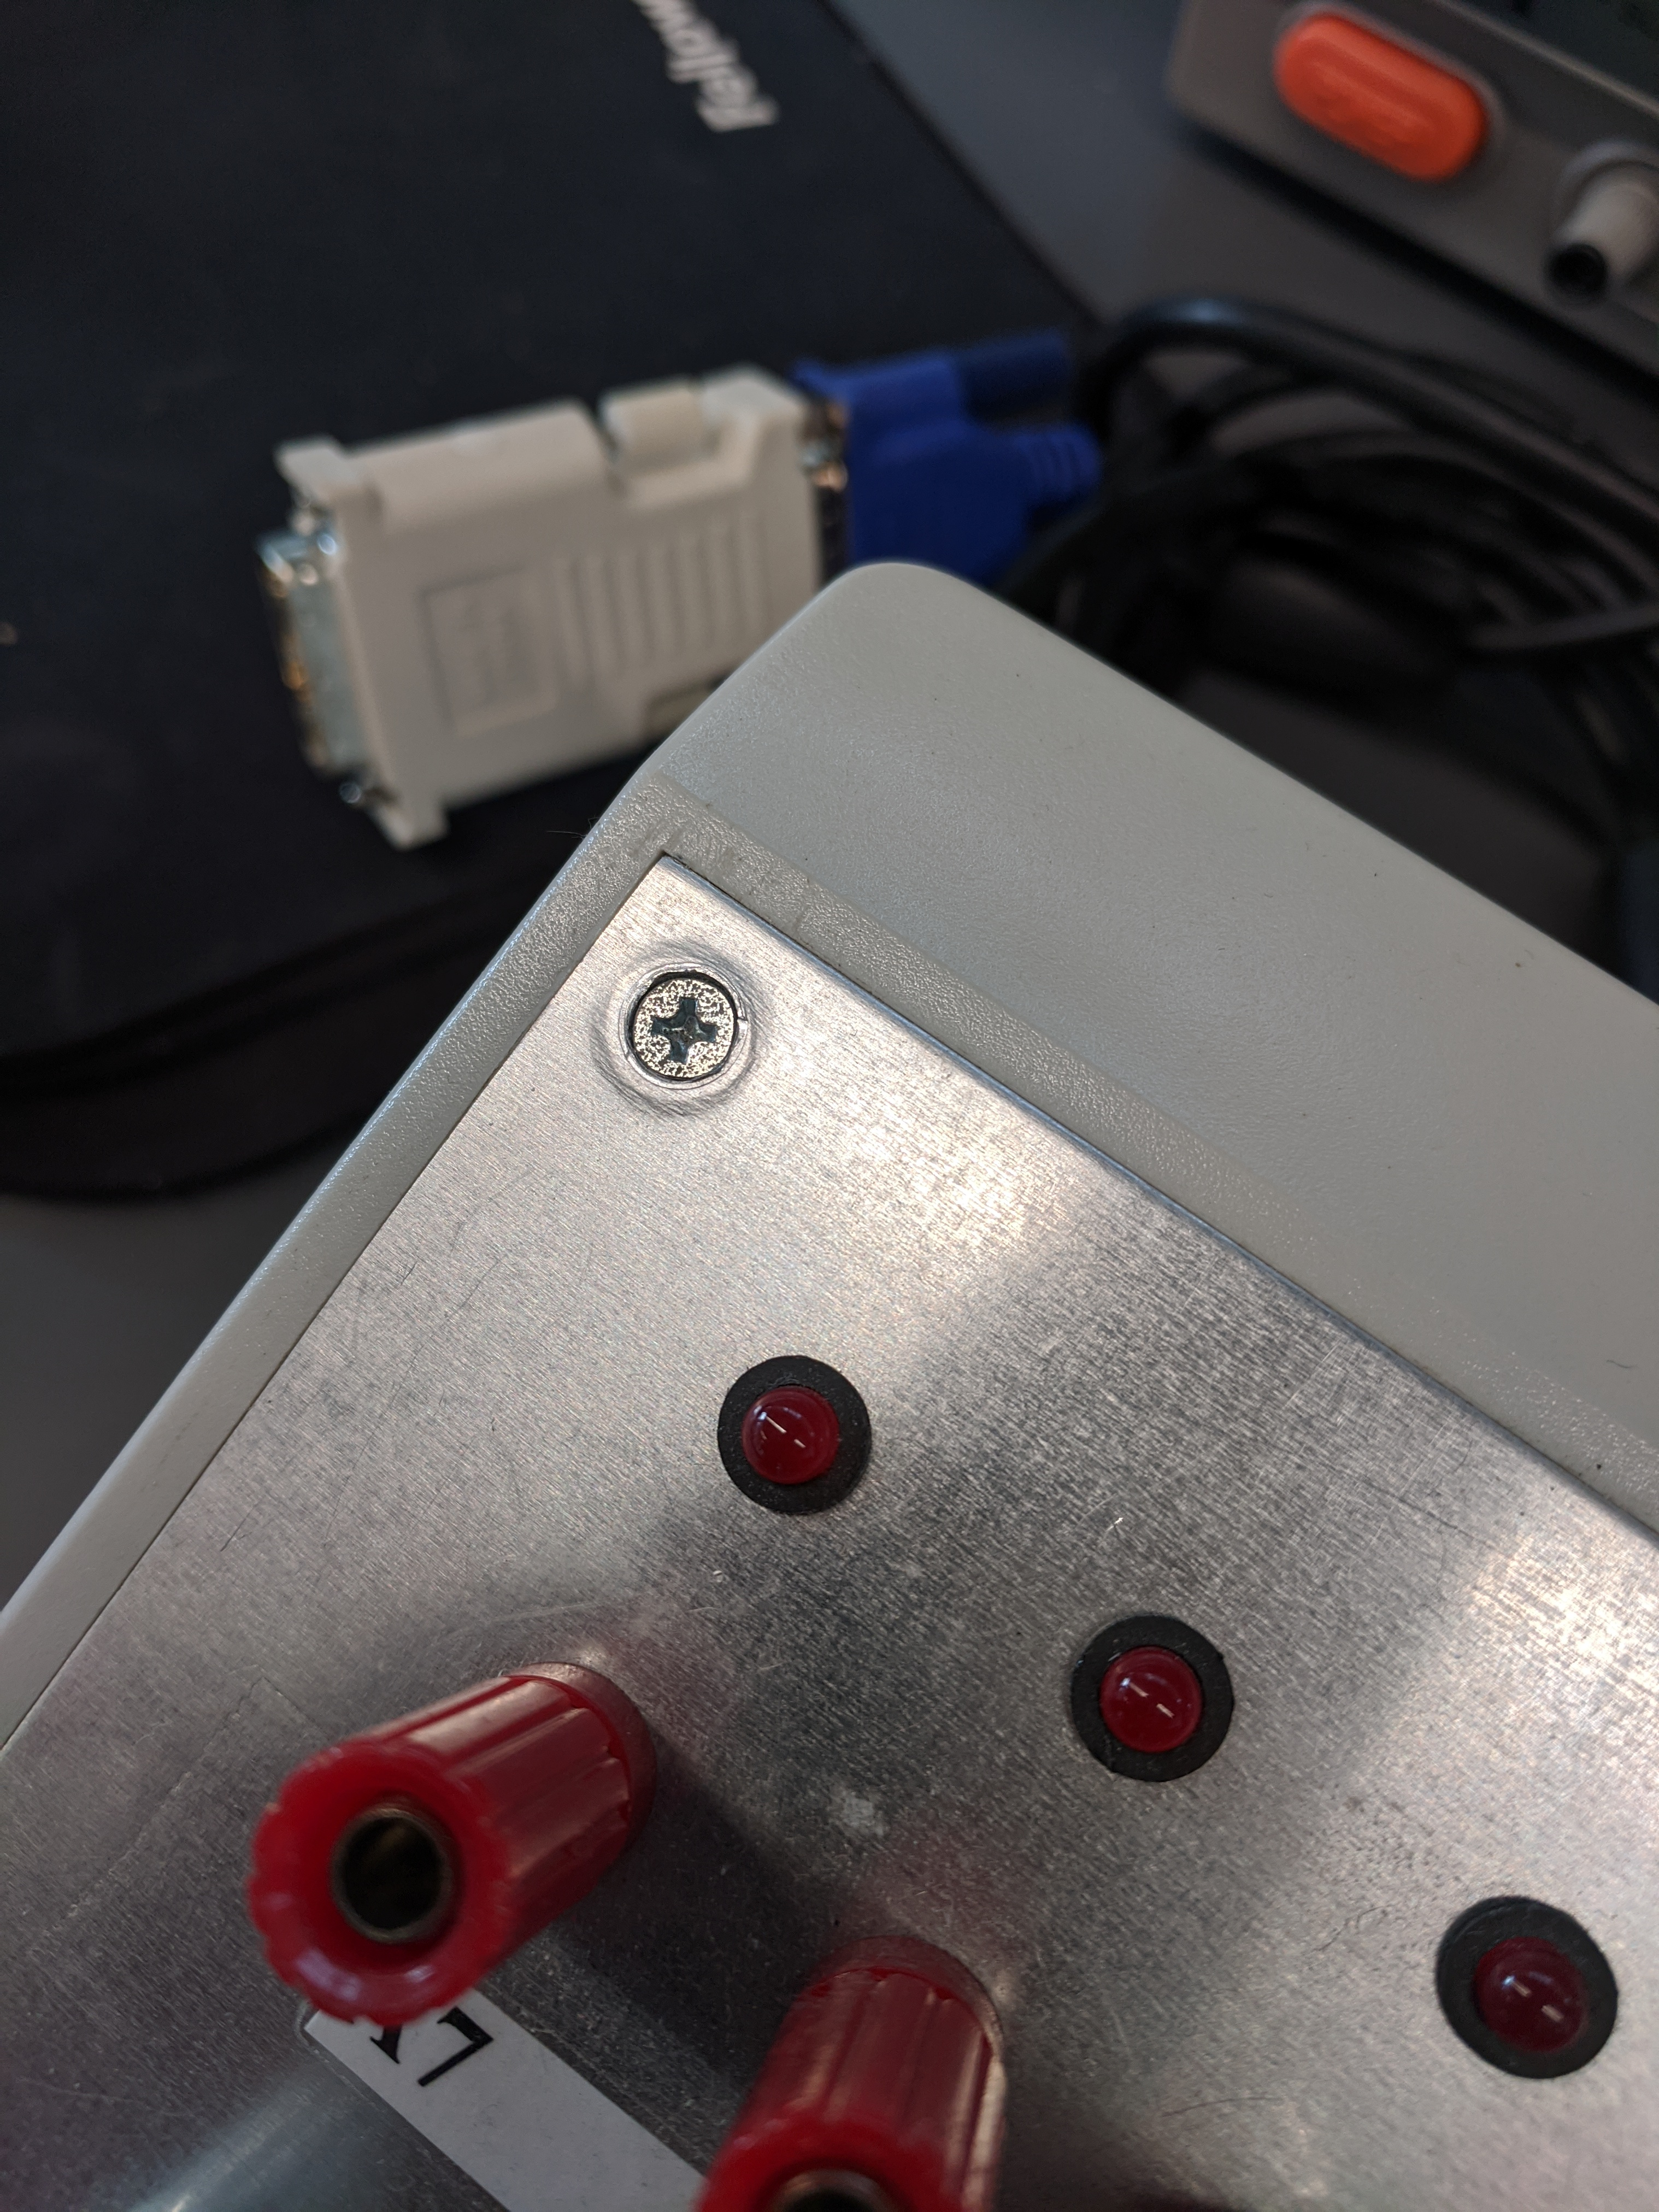cross_recessed_screw: (605, 956, 753, 1090)
